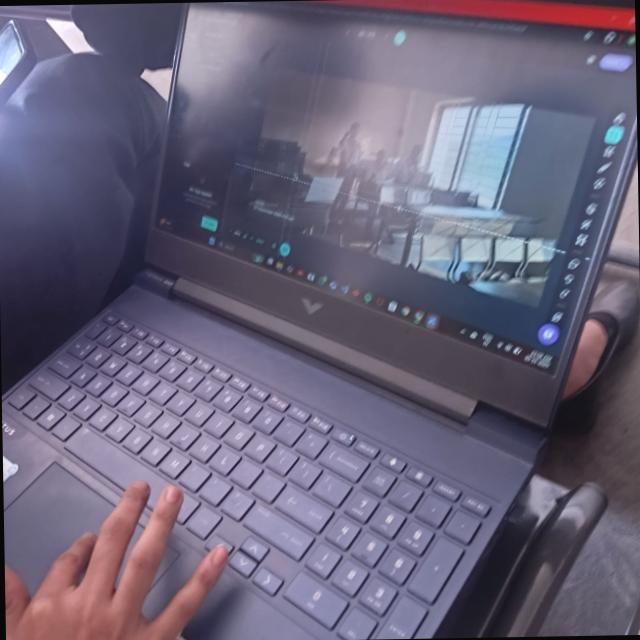laptop: (4, 0, 631, 600)
